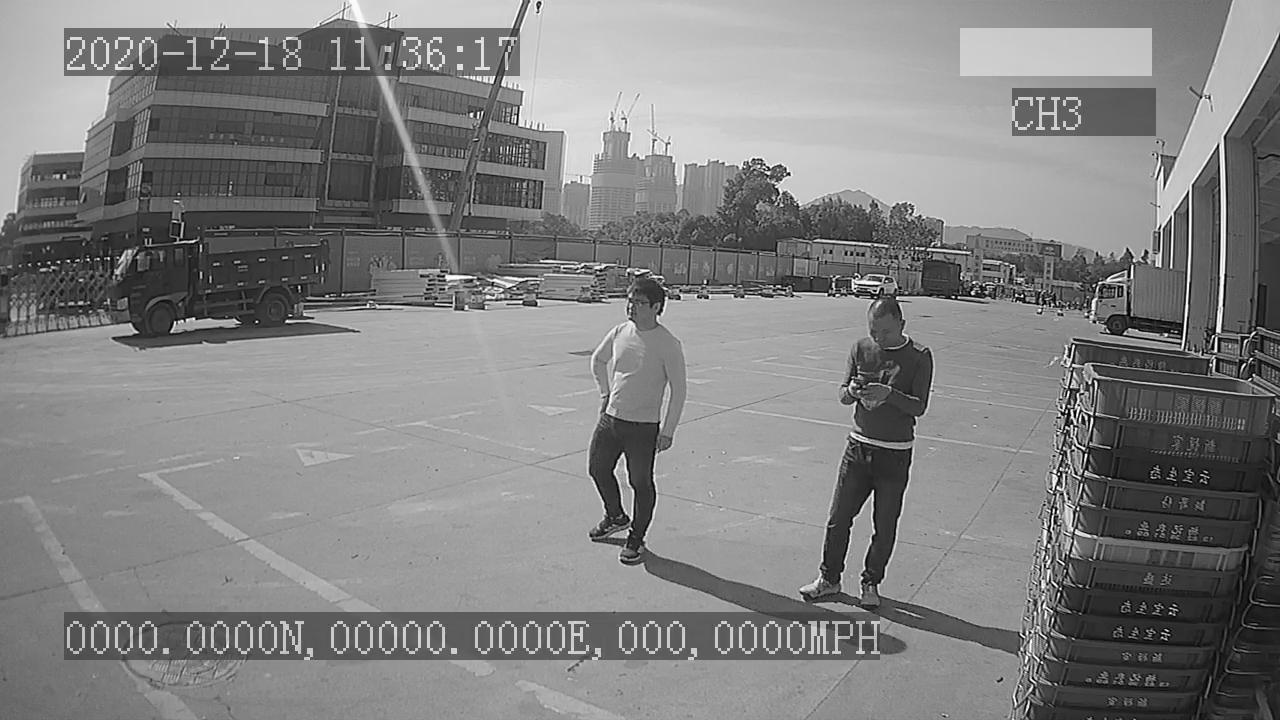person: (800, 297, 939, 609), (588, 279, 689, 562)
